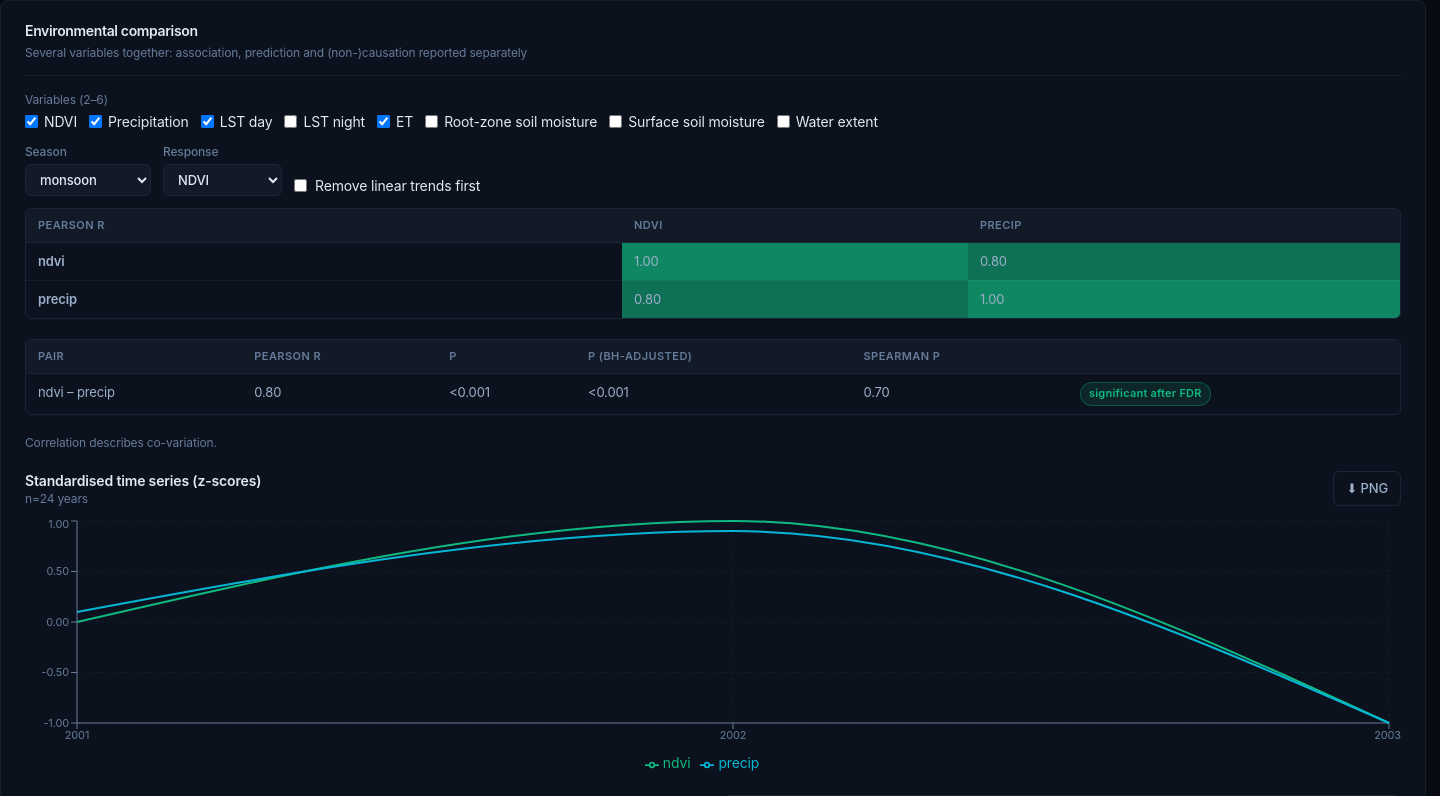
environmental comparison › refuses to run with fewer than two variables
Click the checkbox labelled "Precipitation".
click(96, 122)  # box x1=89 y1=115 x2=102 y2=128
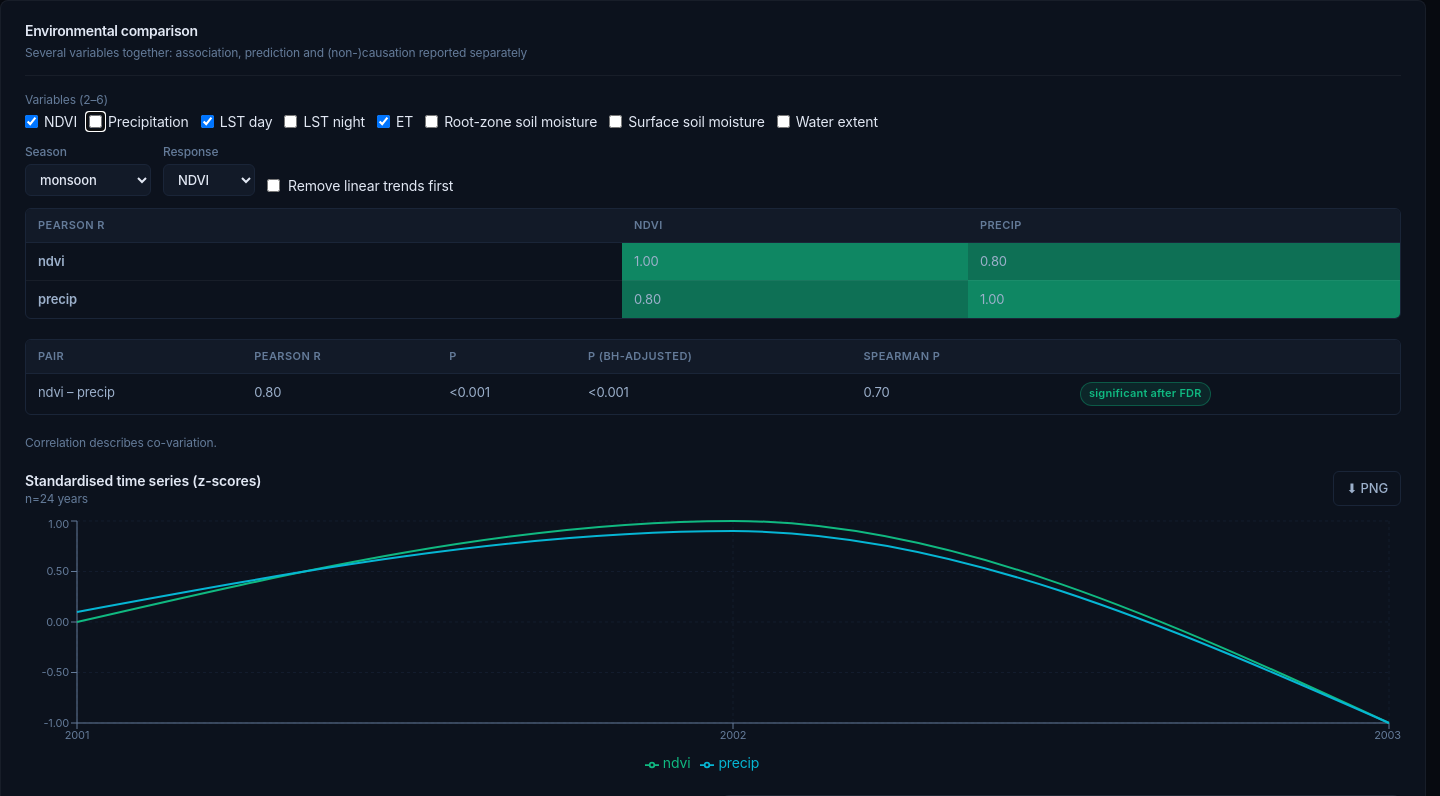
Click the checkbox labelled "LST day".
click(207, 122)  # box x1=201 y1=115 x2=214 y2=128
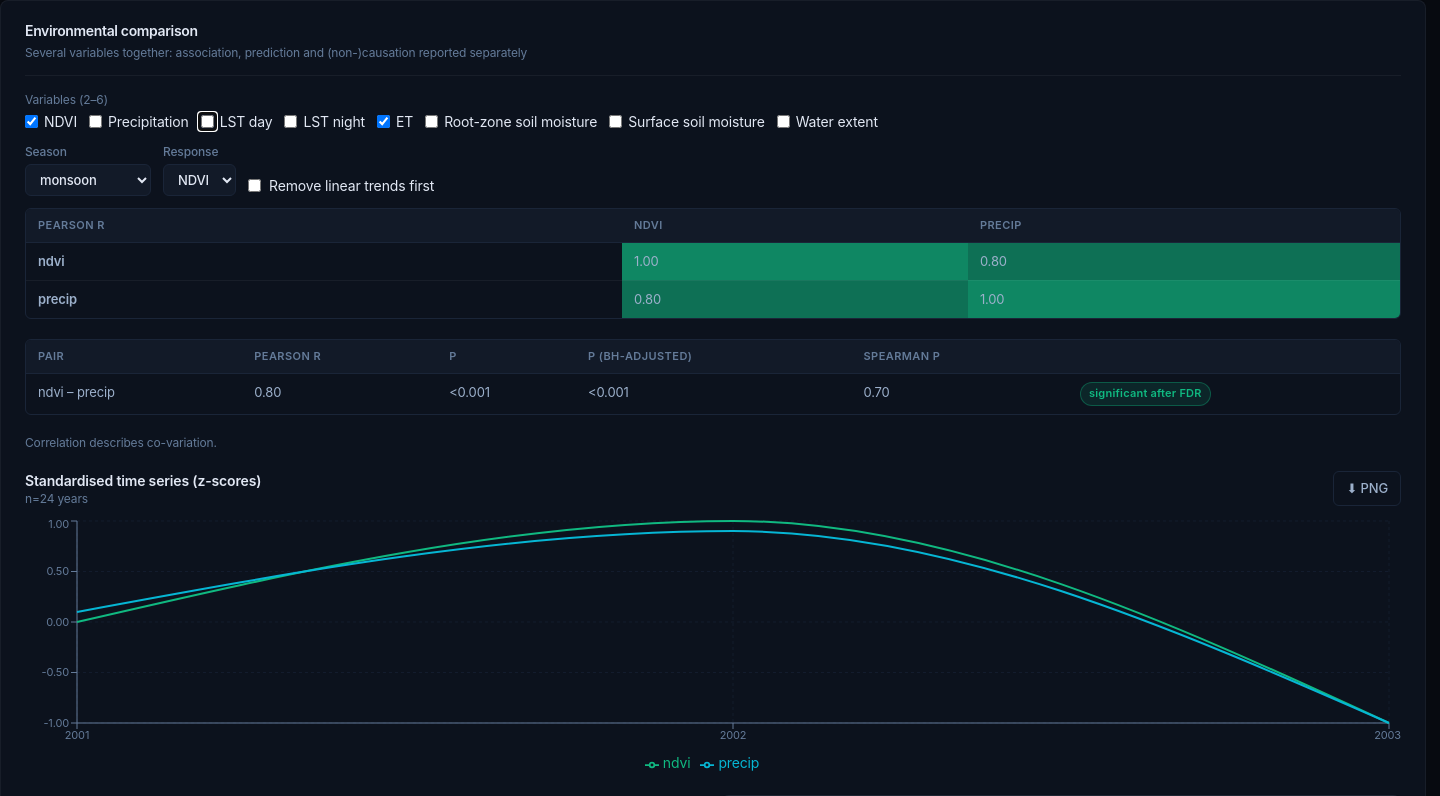
Click the checkbox labelled "ET".
click(384, 122)  # box x1=377 y1=115 x2=390 y2=128
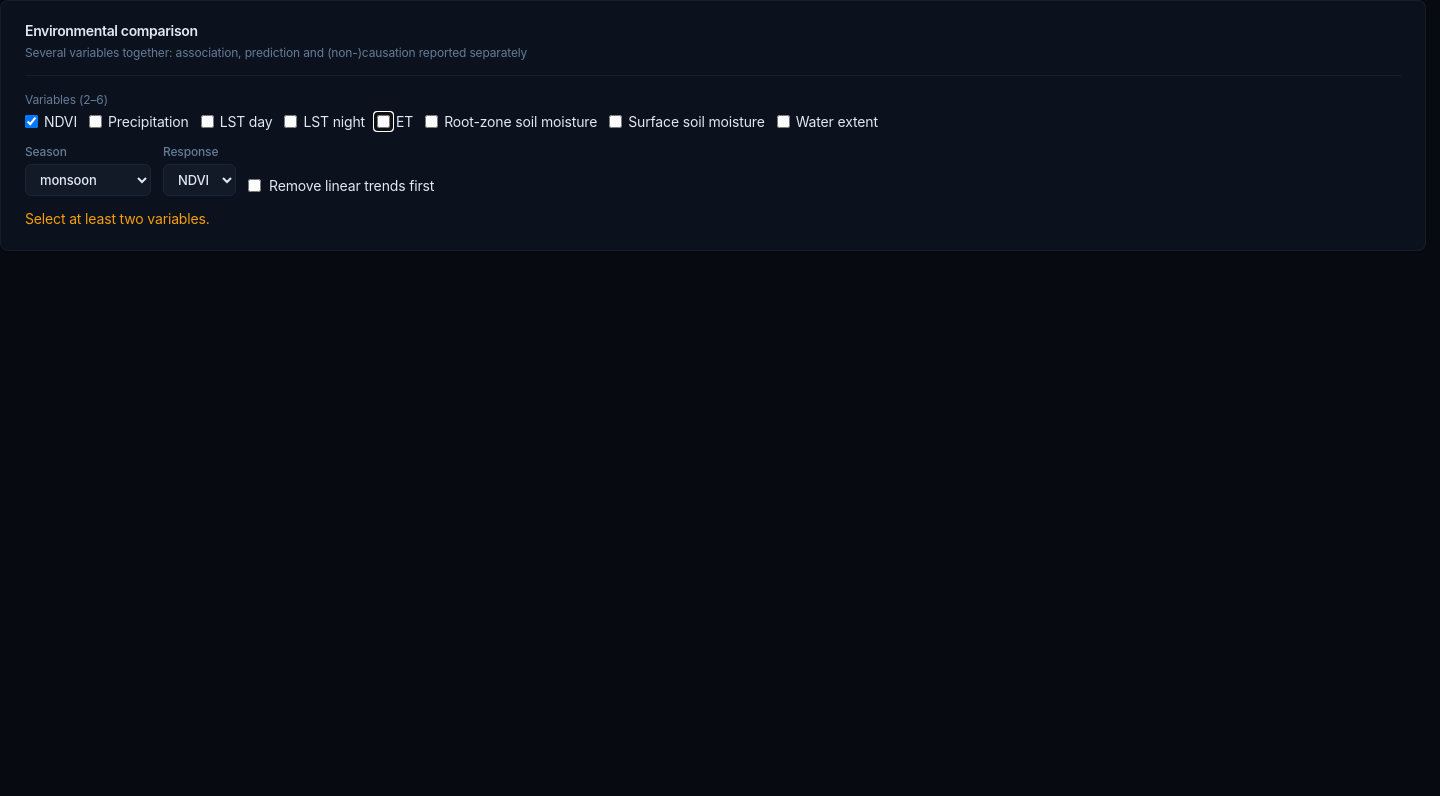
Now the message shows "Select at least two variables", box x1=25 y1=210 x2=210 y2=226
